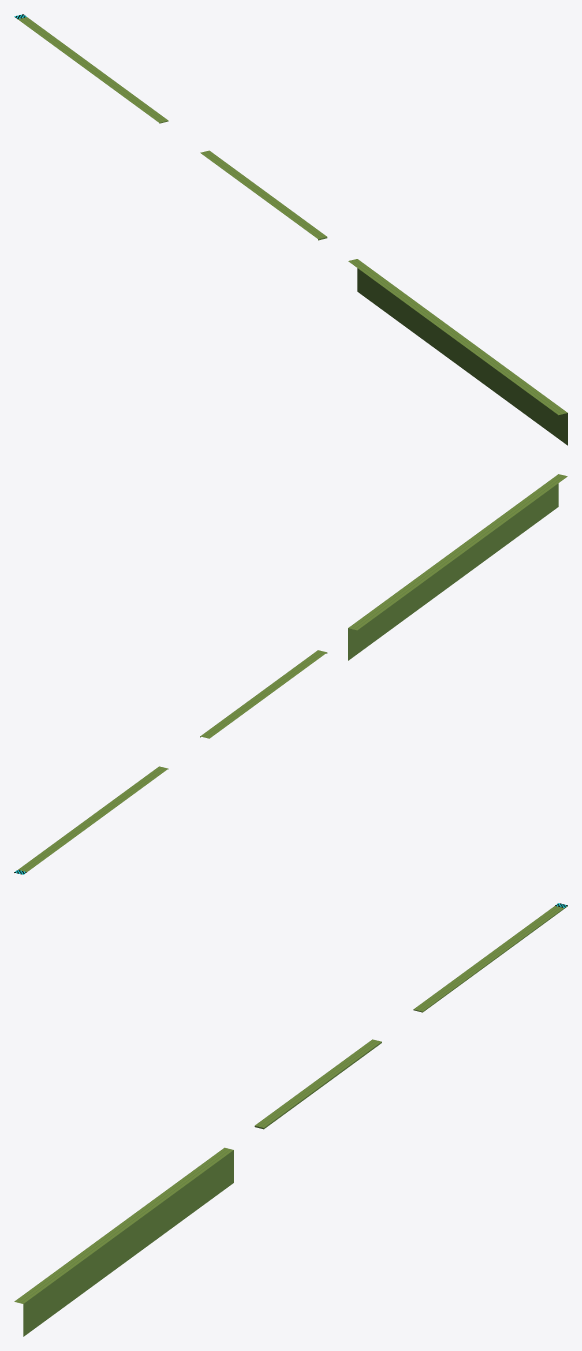
The model's file is Roud lvl4.fbx.
The picture shows the model from 3 angles, top to bottom: view 1: azimuth 30°, elevation 25°; view 2: azimuth 150°, elevation 25°; view 3: azimuth 330°, elevation 25°; orthographic projection.
Parts seen in each view (by area): view 1: roud; view 2: roud; view 3: roud.
Part boxes in pixels (bbox=[...]): roud: bbox=[18, 17, 567, 445]; roud: bbox=[14, 474, 567, 872]; roud: bbox=[14, 906, 567, 1336].
Size of the model in its own units: 600 by 2010 by 60000.
